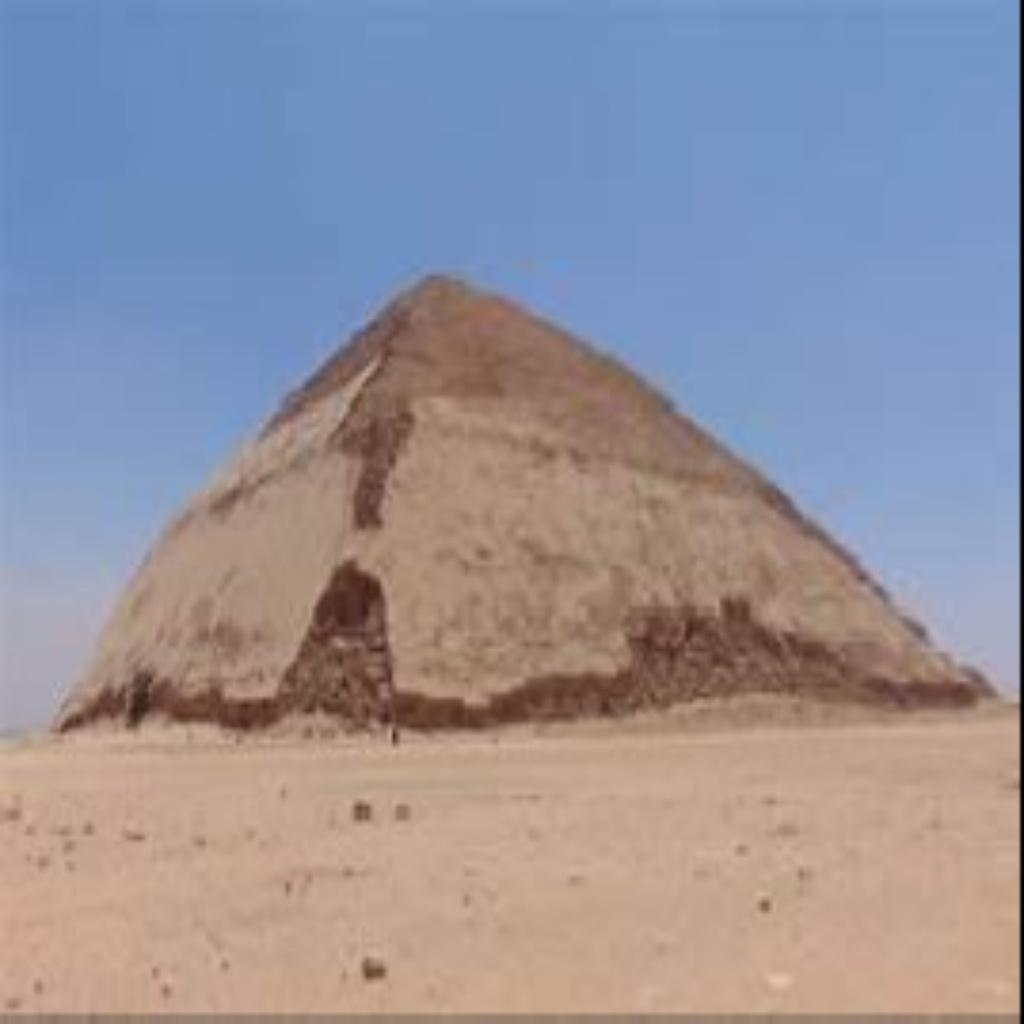Bent Pyramid of King Sneferu: (50, 260, 998, 734)
